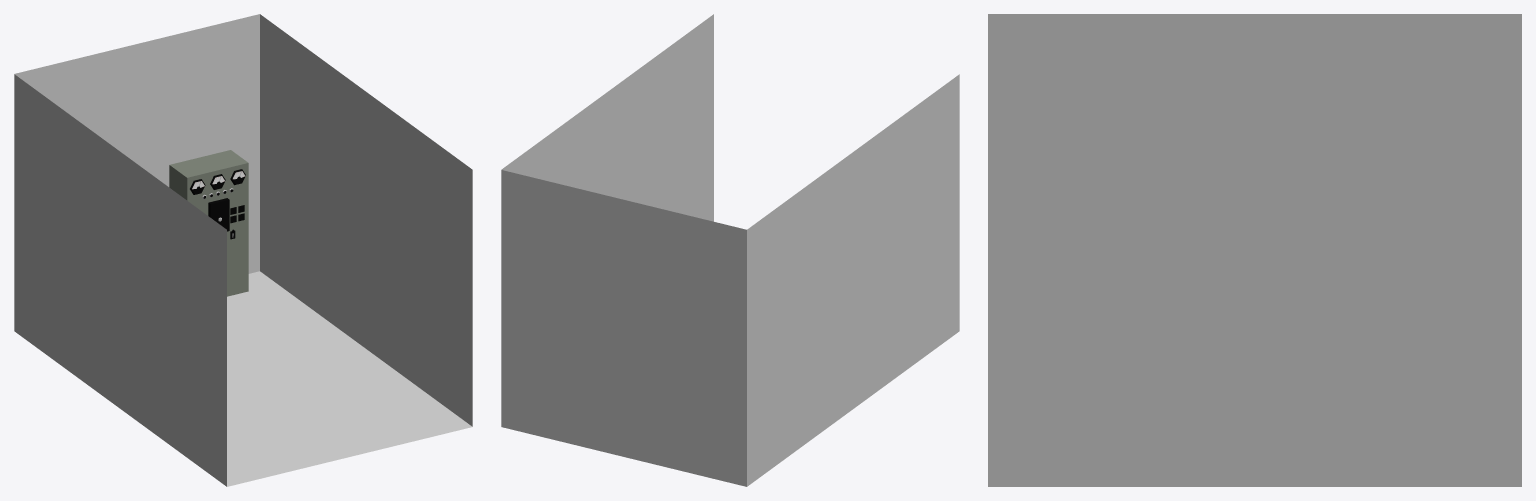
Rendered from bunkerElectric.fbx.
3 renders of one model, left to right at view 1: azimuth 30°, elevation 25°; view 2: azimuth 150°, elevation 25°; view 3: azimuth 270°, elevation 25°, orthographic. The views are drawn at different scales.
Visible parts, largest first — view 1: Cube.002, Cube.004, Cube, Cube.003, Cube.001; view 2: Cube.003, Cube.002, Cube.004; view 3: Cube.004, Cube.002.
Part boxes in pixels (x1=…): Cube.002: x1=14, y1=74, x2=226, y2=486; Cube.004: x1=260, y1=14, x2=472, y2=426; Cube: x1=227, y1=271, x2=472, y2=486; Cube.003: x1=14, y1=14, x2=259, y2=273; Cube.001: x1=169, y1=150, x2=248, y2=296; Cube.003: x1=501, y1=170, x2=746, y2=486; Cube.002: x1=747, y1=74, x2=959, y2=486; Cube.004: x1=501, y1=14, x2=713, y2=221; Cube.004: x1=988, y1=164, x2=1521, y2=486; Cube.002: x1=988, y1=14, x2=1521, y2=164.
Bounding box in the file's own units: 400 × 400 × 600.
